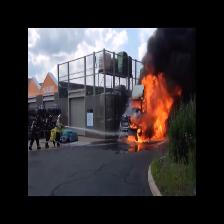fire: (136, 70, 177, 152)
smoke: (155, 26, 195, 65)
